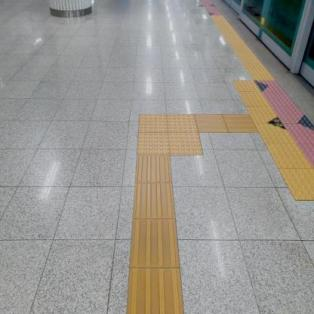Podoctatil: (221, 2, 314, 198), (128, 154, 185, 313), (121, 94, 216, 179), (200, 114, 253, 134)
